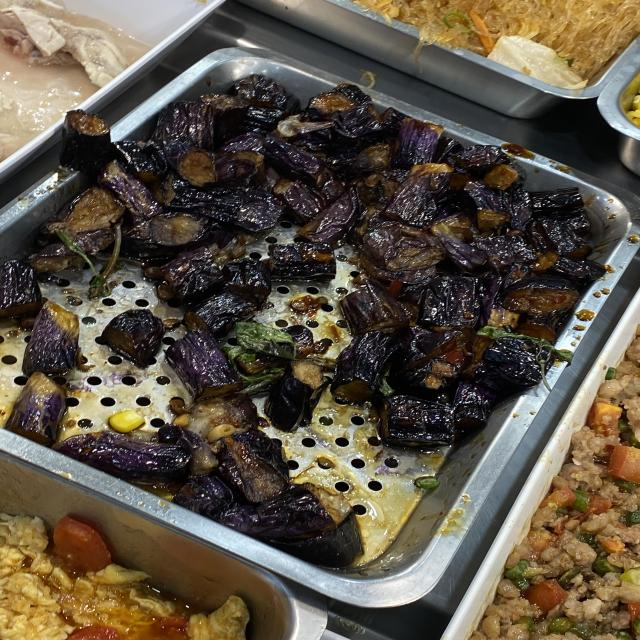eggplant: (366, 188, 572, 325)
